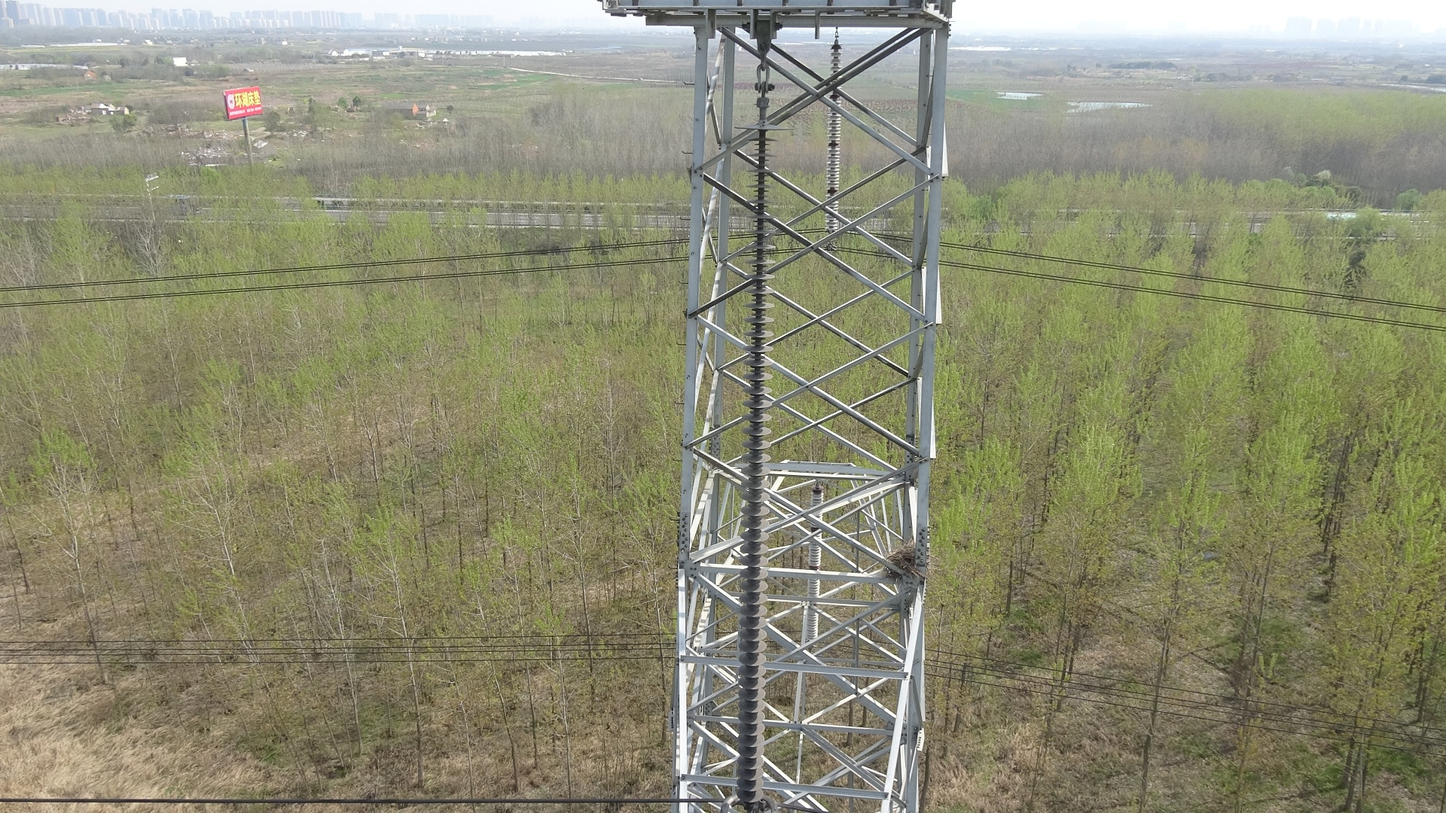insulator: (728, 133, 782, 808), (822, 44, 845, 234), (802, 484, 825, 641)
